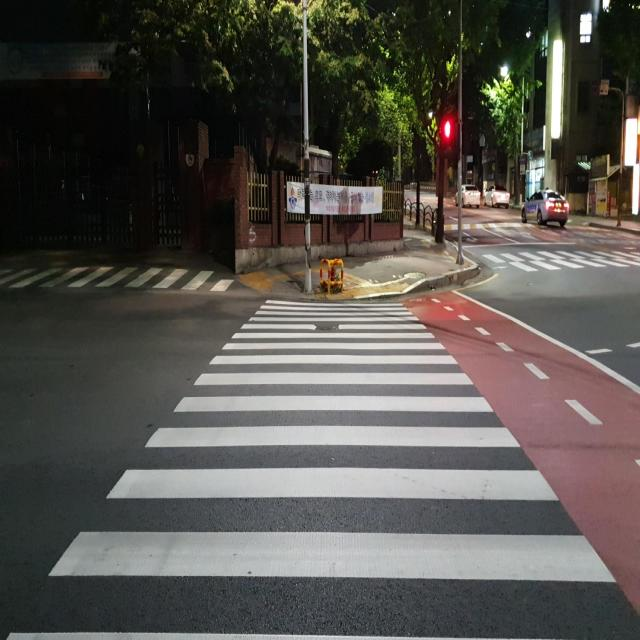빨간불: (441, 118, 458, 165)
횡단보도: (4, 296, 618, 640), (0, 256, 242, 297), (473, 244, 639, 266)
